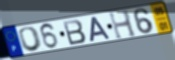6: (40, 22, 61, 51), (133, 8, 155, 35)
A: (89, 15, 112, 43)
B: (62, 19, 88, 47)
H: (107, 9, 138, 40)
O: (18, 26, 45, 53)
